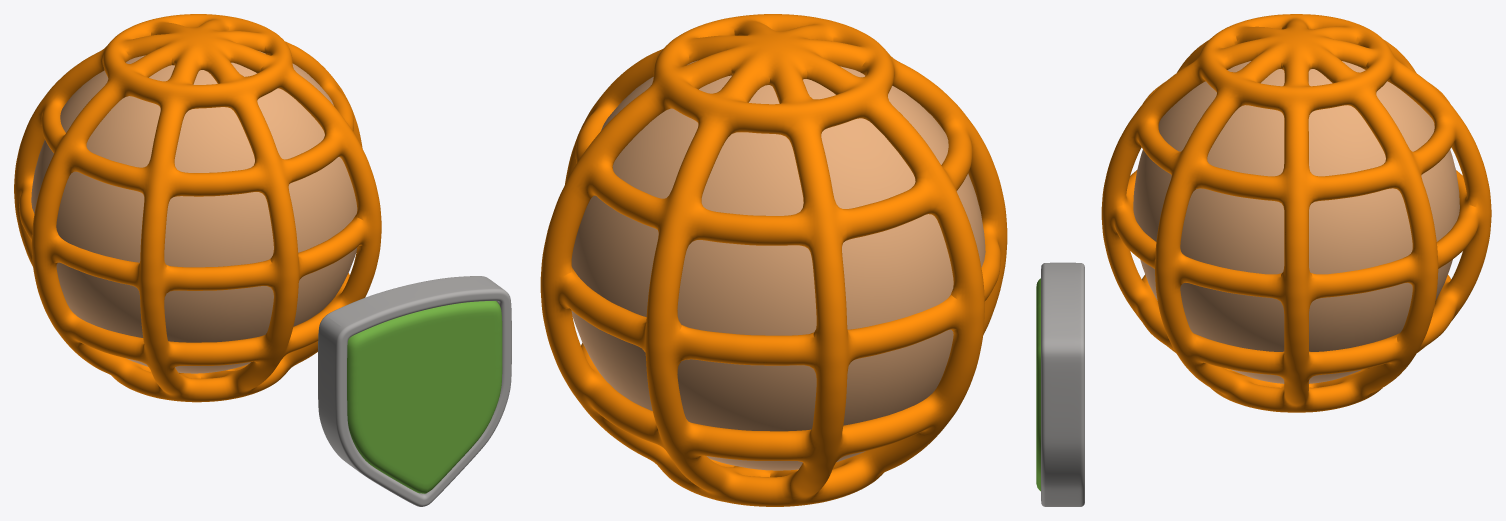
The model's file is network-security-animated-3d-icon-361443513764.glb.
3 renders of one model, left to right at view 1: azimuth 30°, elevation 25°; view 2: azimuth 150°, elevation 25°; view 3: azimuth 270°, elevation 25°, orthographic. The views are drawn at different scales.
Parts seen in each view (by area): view 1: Globe, Inner Globe, Shield 2.001, Shield 1.001; view 2: Globe, Inner Globe; view 3: Globe, Inner Globe, Shield 1.001, Shield 2.001.
Boxes of the visible parts, left/top/right/bottom form: Globe: left=14, top=14, right=381, bottom=402; Inner Globe: left=31, top=51, right=357, bottom=373; Shield 2.001: left=347, top=301, right=502, bottom=493; Shield 1.001: left=318, top=276, right=511, bottom=506; Globe: left=540, top=14, right=1007, bottom=506; Inner Globe: left=571, top=60, right=985, bottom=470; Globe: left=1101, top=14, right=1491, bottom=412; Inner Globe: left=1133, top=61, right=1459, bottom=383; Shield 1.001: left=1041, top=262, right=1084, bottom=506; Shield 2.001: left=1036, top=278, right=1040, bottom=491.
Size of what is drawn, in the model's own units: 2.2 by 2.4 by 2.37.
